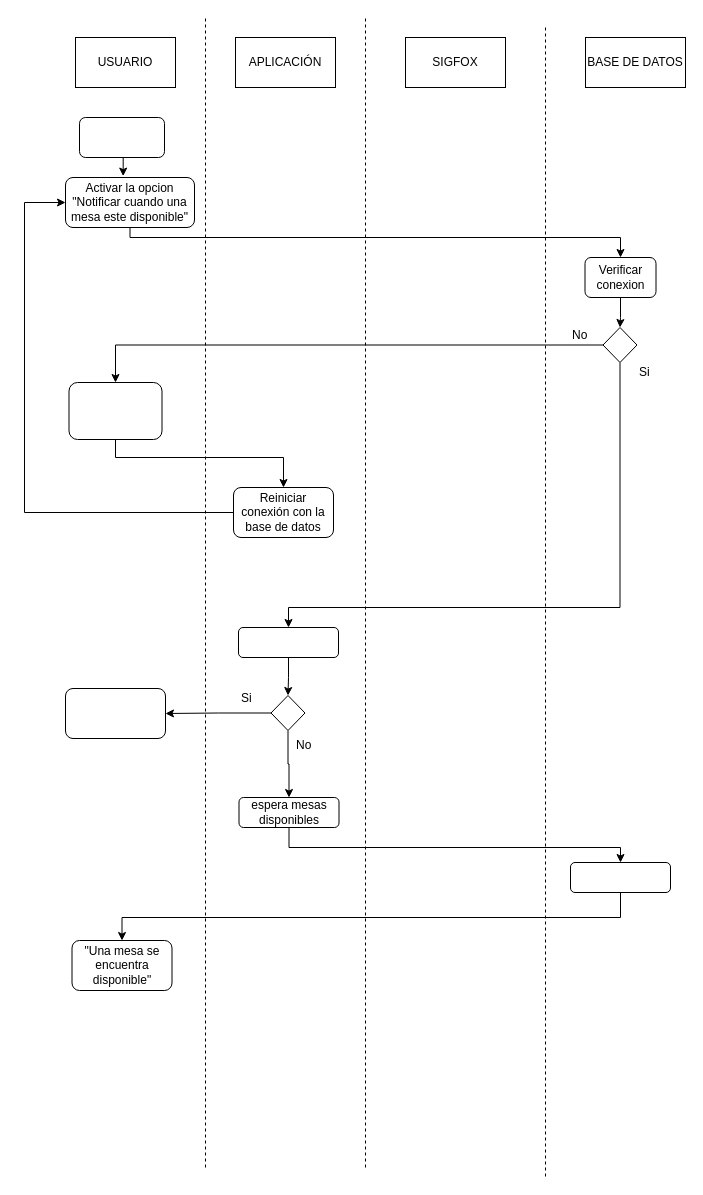
Some shapes in this 703 by 1195 pixel diagram are drawn without their labels. Here are the shapes that lost their labels. From the top down, the centre of each, then its label:
(x=121, y=137): Menu
(x=115, y=411): "No dispone conexión, reiniciando conexión"
(x=288, y=642): mesas disponibles
(x=115, y=713): "Actualmente existen mesas disponibles"
(x=620, y=877): se desocupo una mesa
